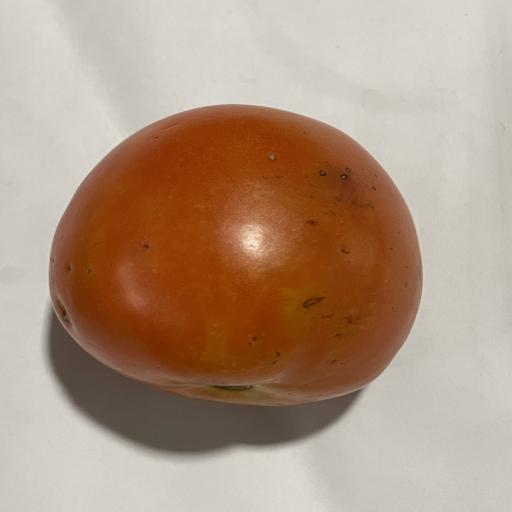ripe: (49, 105, 422, 405)
